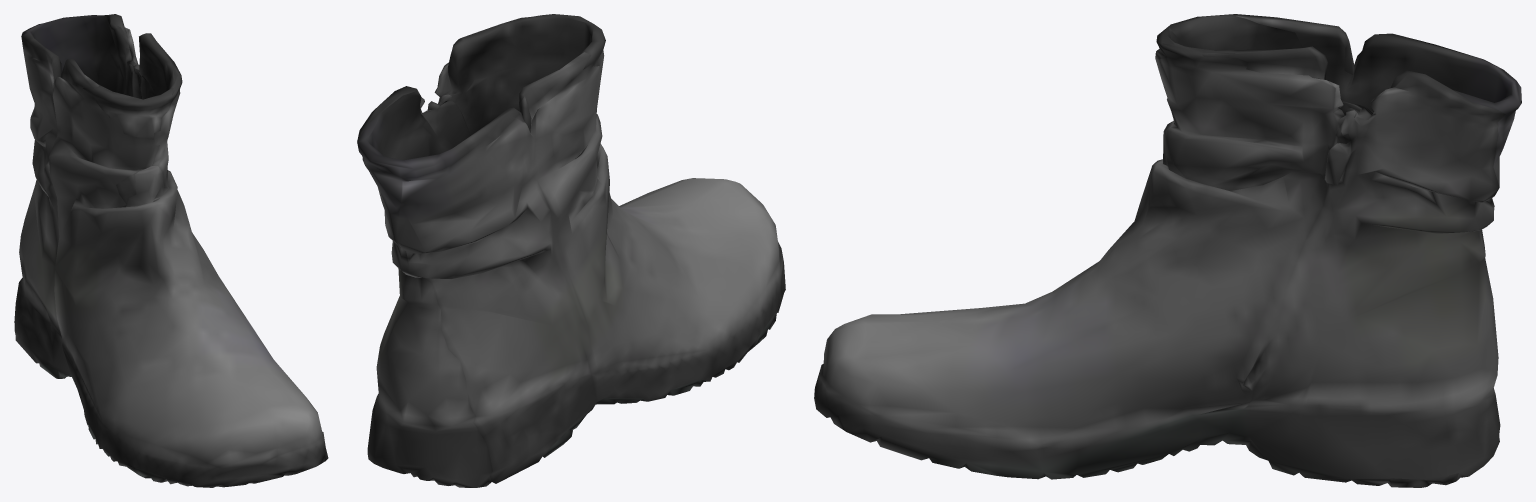
File: Womens_Teva_Capistrano_Bootie-medium.glb
3 renders of one model, left to right at view 1: azimuth 30°, elevation 25°; view 2: azimuth 150°, elevation 25°; view 3: azimuth 270°, elevation 25°, orthographic. The views are drawn at different scales.
Parts seen in each view (by area): view 1: Womens_Teva_Capistrano_Bootie; view 2: Womens_Teva_Capistrano_Bootie; view 3: Womens_Teva_Capistrano_Bootie.
Part boxes in pixels (x1,y1,x2,y2): Womens_Teva_Capistrano_Bootie: [14, 14, 328, 487]; Womens_Teva_Capistrano_Bootie: [357, 14, 785, 487]; Womens_Teva_Capistrano_Bootie: [814, 14, 1521, 487].
Bounding box in the file's own units: 0.1012 × 0.191 × 0.2894.
Materials: 1 (1 with a texture image).
